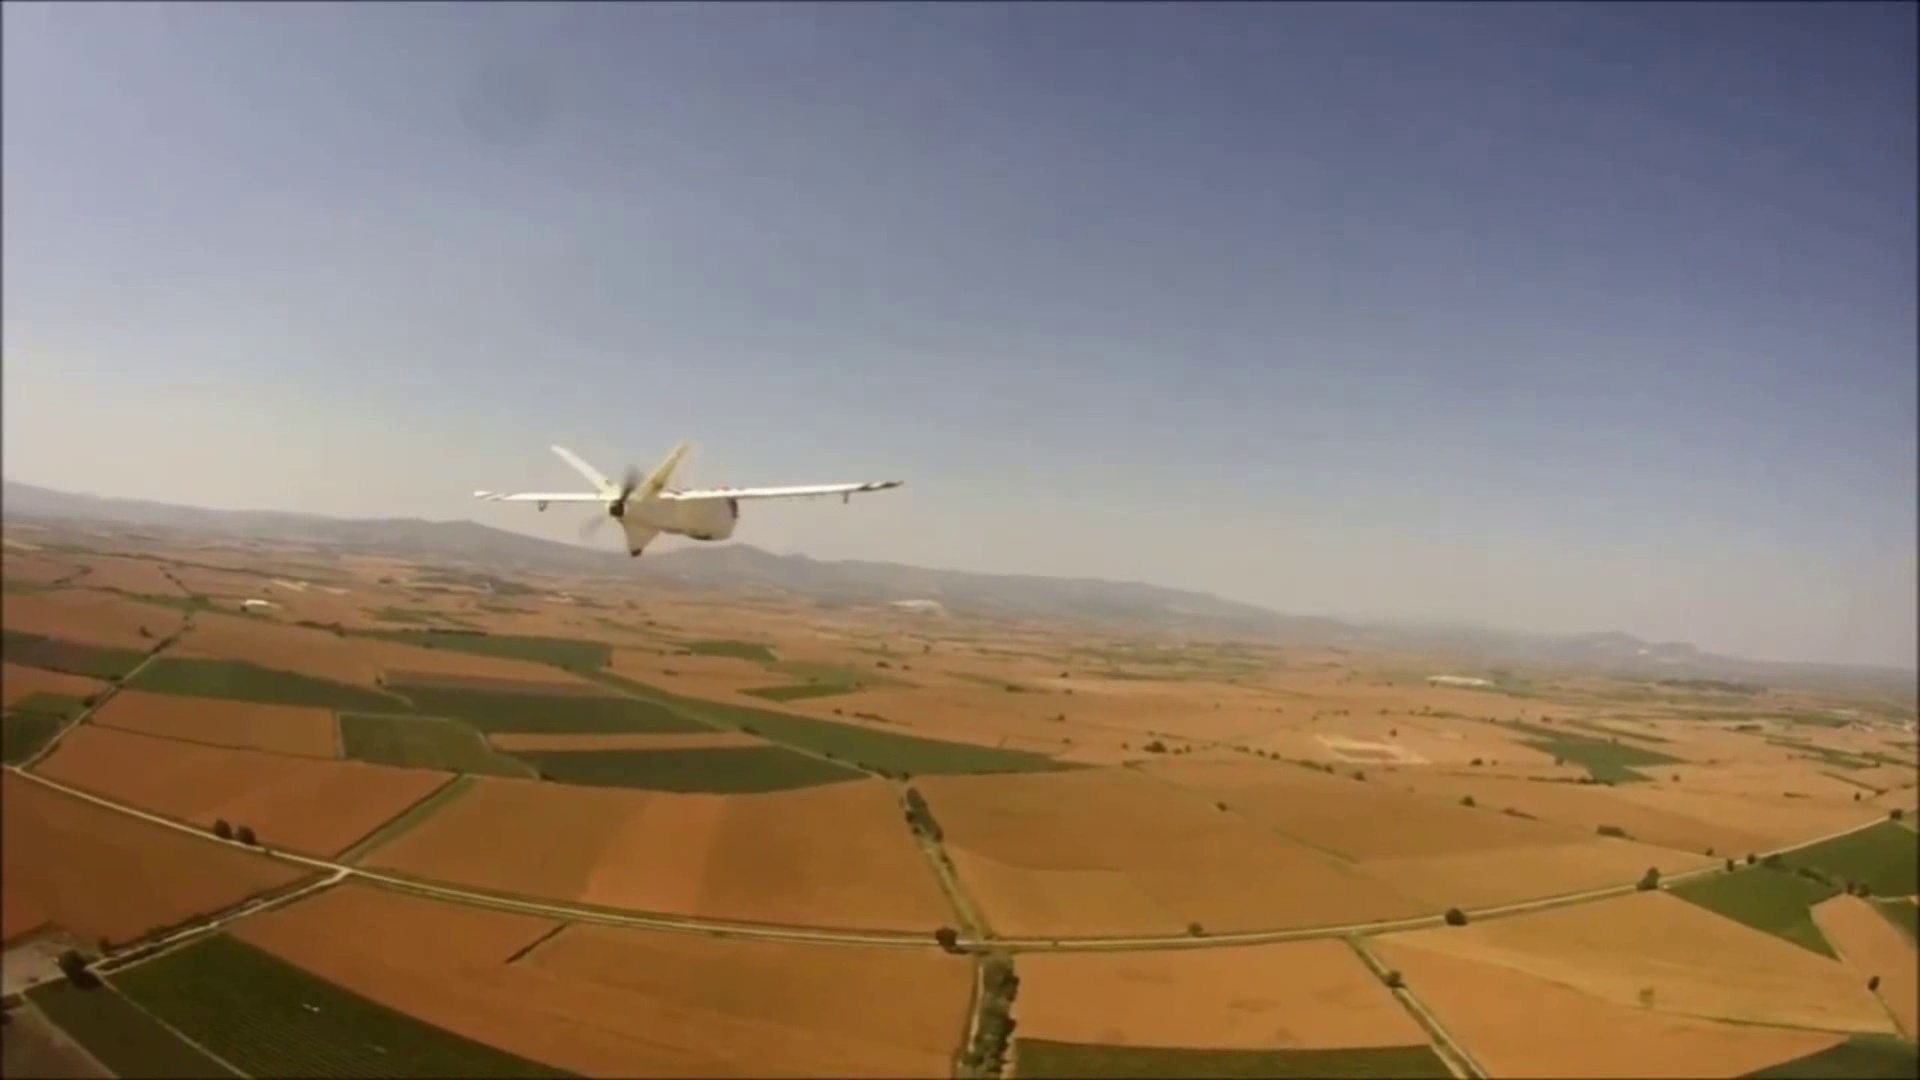airplane: (467, 439, 906, 560)
